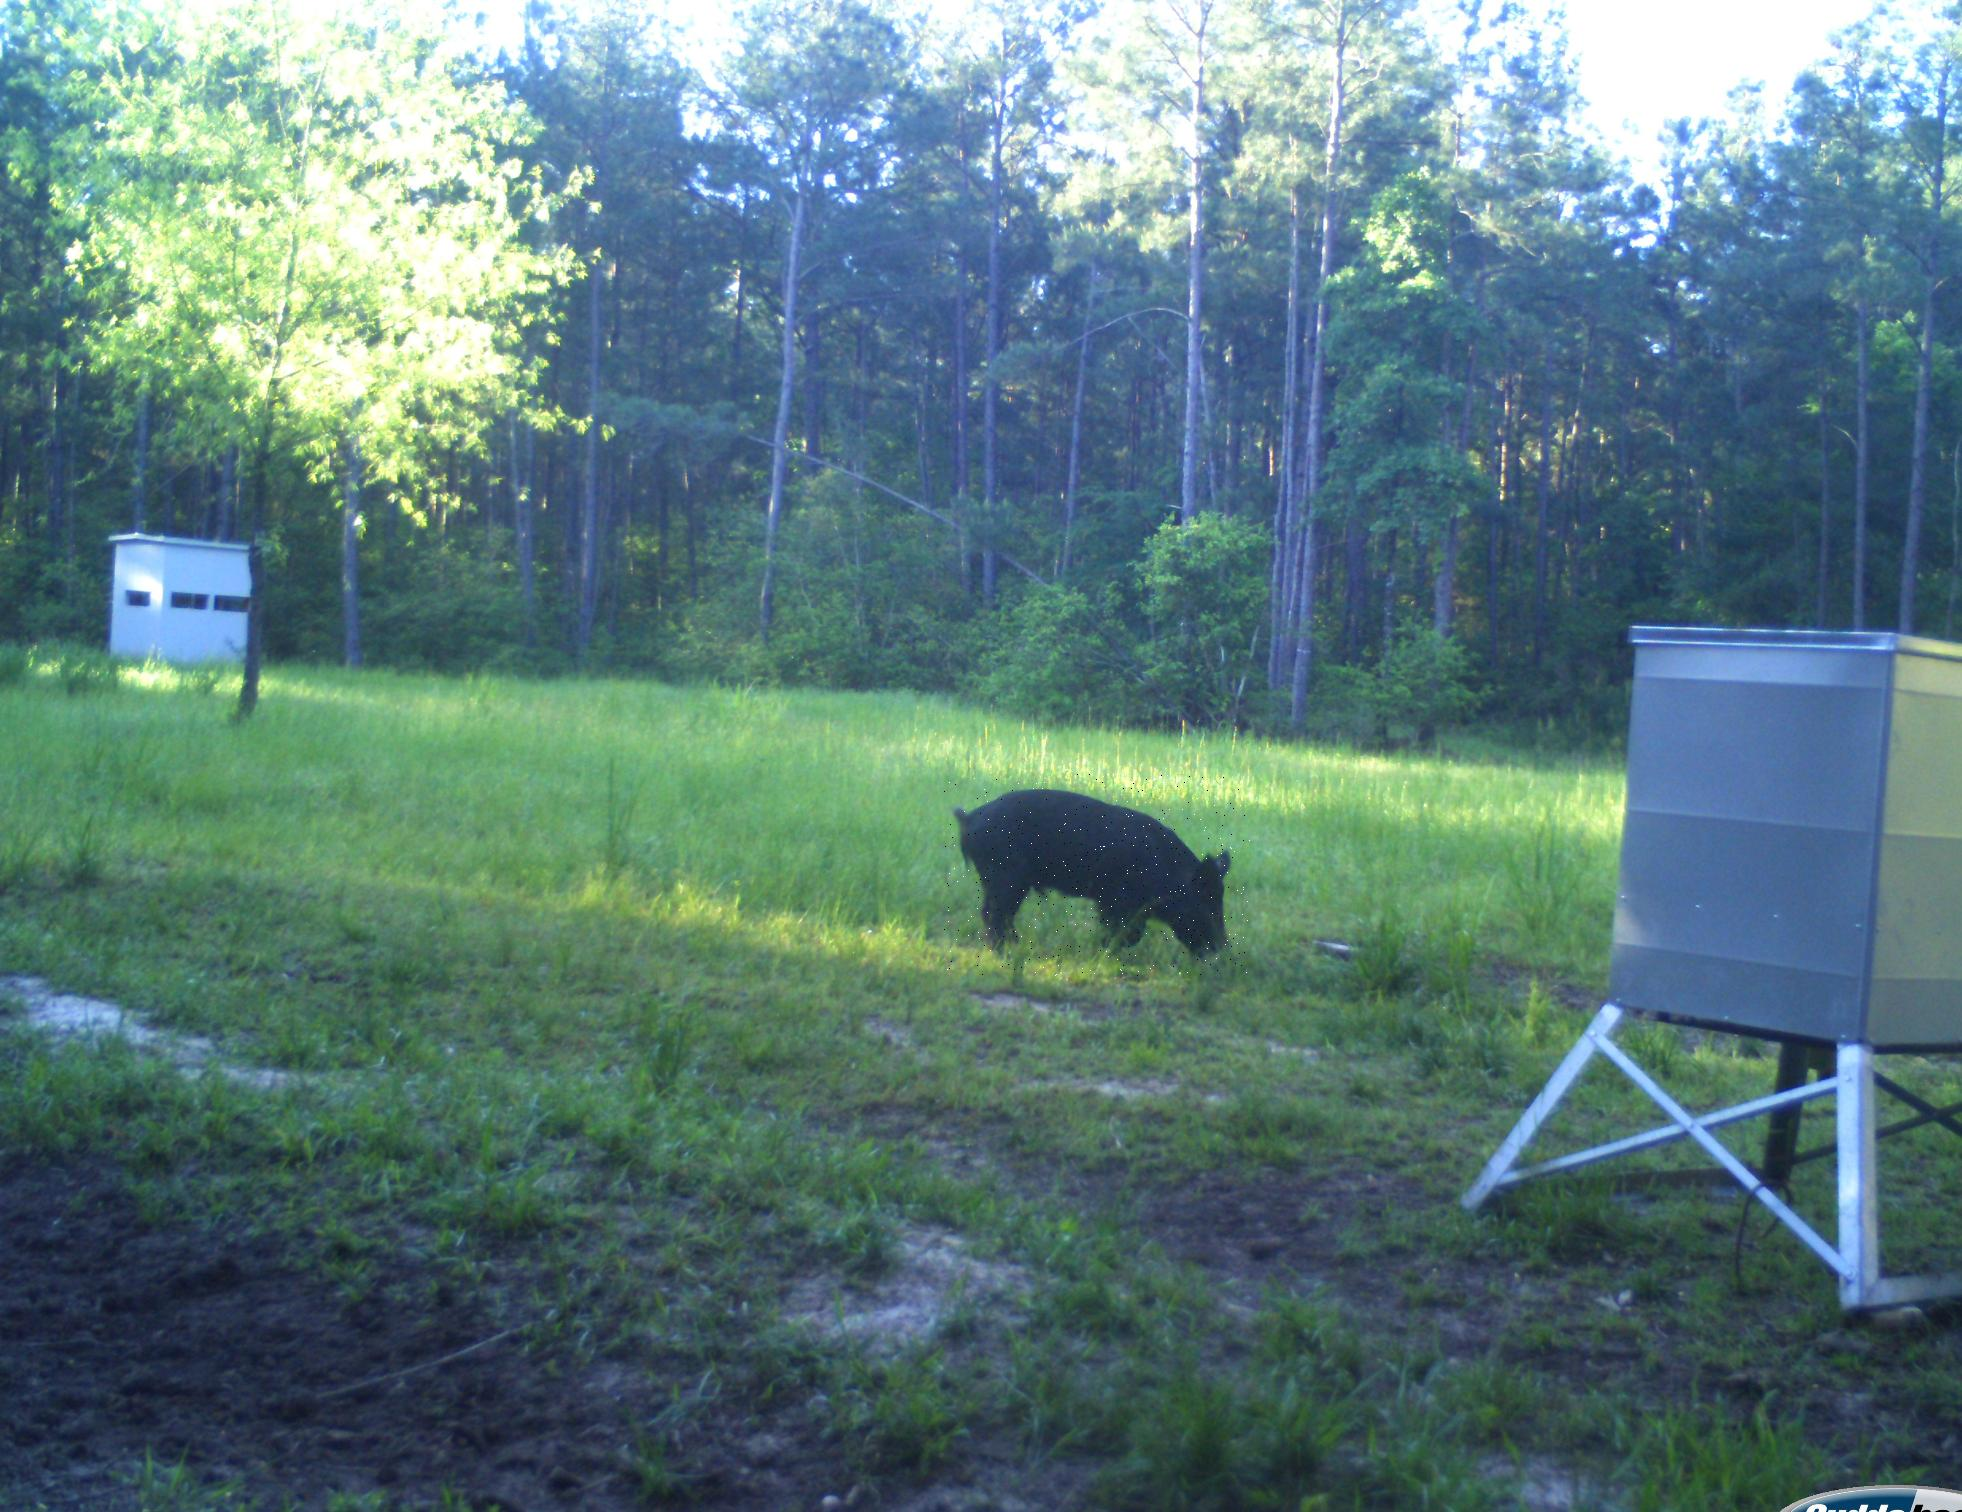Hog: (944, 773, 1250, 977)
